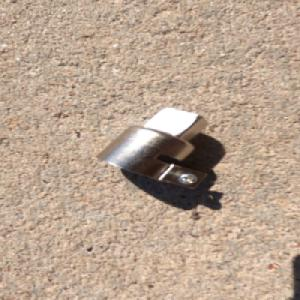MetalPart: (93, 105, 210, 191)
